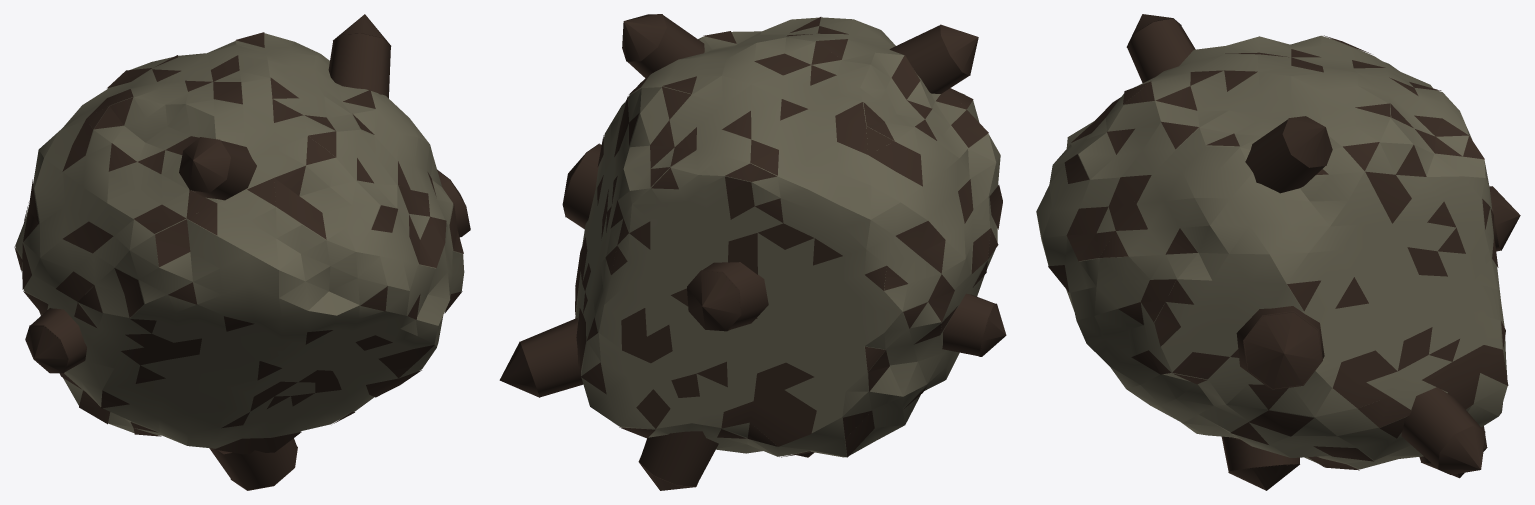
The model's file is ore_tin.glb.
The picture shows the model from 3 angles, left to right: view 1: azimuth 30°, elevation 25°; view 2: azimuth 150°, elevation 25°; view 3: azimuth 270°, elevation 25°; orthographic projection. The views are drawn at different scales.
Visible parts, largest first — view 1: tin_matrix, tin_cassiterite_stain, tin_cassiterite_crystals; view 2: tin_matrix, tin_cassiterite_stain, tin_cassiterite_crystals; view 3: tin_matrix, tin_cassiterite_stain, tin_cassiterite_crystals.
Boxes of the visible parts, <box> form: tin_matrix: <box>15,33,464,448</box>; tin_cassiterite_stain: <box>14,32,463,454</box>; tin_cassiterite_crystals: <box>25,14,470,490</box>; tin_matrix: <box>575,17,1000,457</box>; tin_cassiterite_stain: <box>575,17,1002,457</box>; tin_cassiterite_crystals: <box>499,14,1006,490</box>; tin_matrix: <box>1036,35,1507,469</box>; tin_cassiterite_stain: <box>1048,35,1508,470</box>; tin_cassiterite_crystals: <box>1126,14,1520,490</box>.
Bounding box in the file's own units: 1.02 × 0.9381 × 0.9714.
